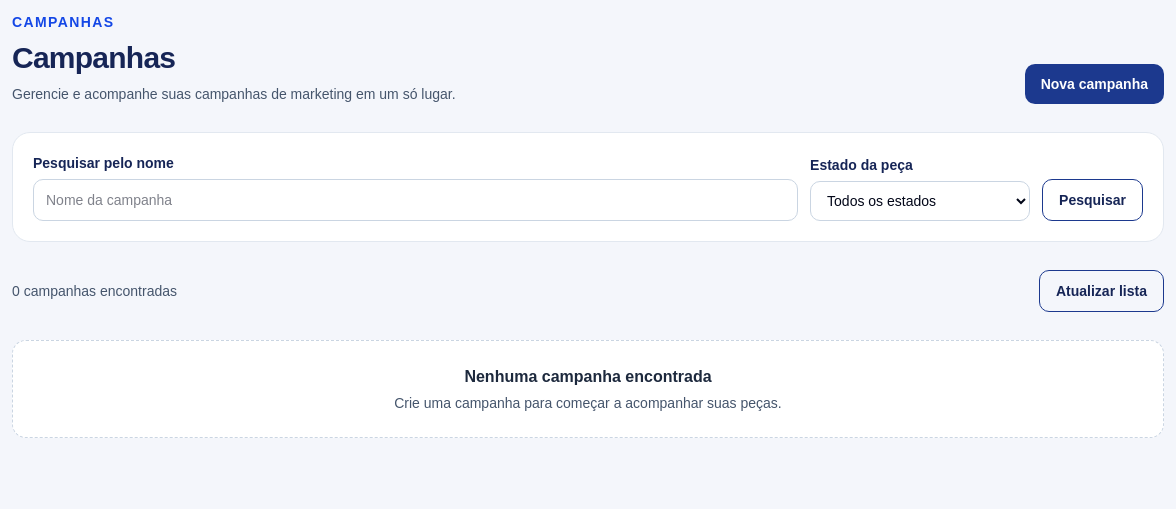
Scenario: listagem de campanhas › distingue lista vazia de pesquisa sem resultados e limpa filtros
The image size is (1176, 509).
Expected: the text "Nenhuma campanha encontrada" is shown, [464,368,712,385]
Type "inexistente" into the search field labelled "Pesquisar pelo nome".
click(416, 200); type("inexistente")  # box [33,179,798,221]
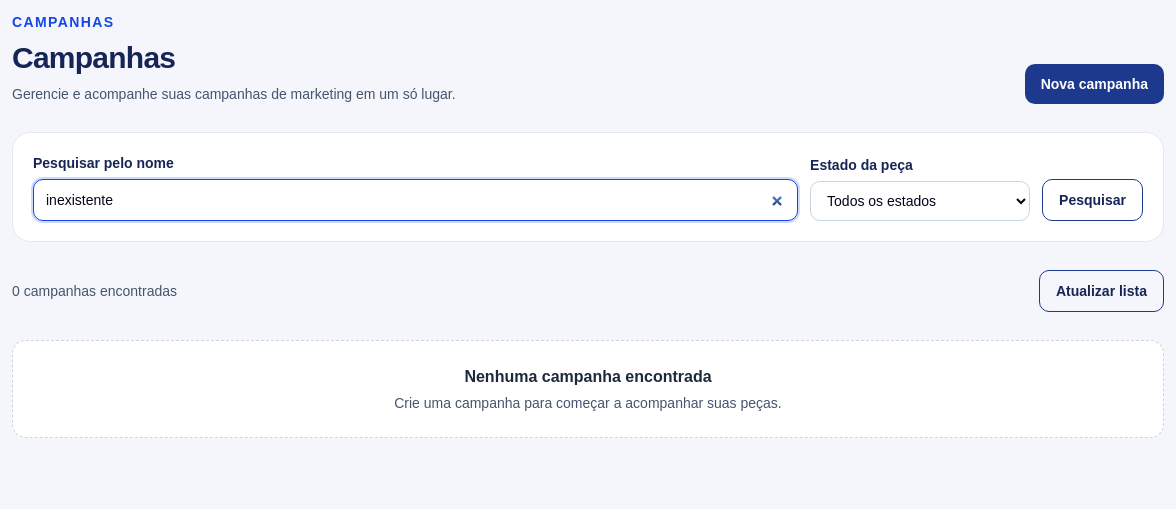
Click the button "Pesquisar".
click(1093, 200)  # box [1042,179,1143,221]
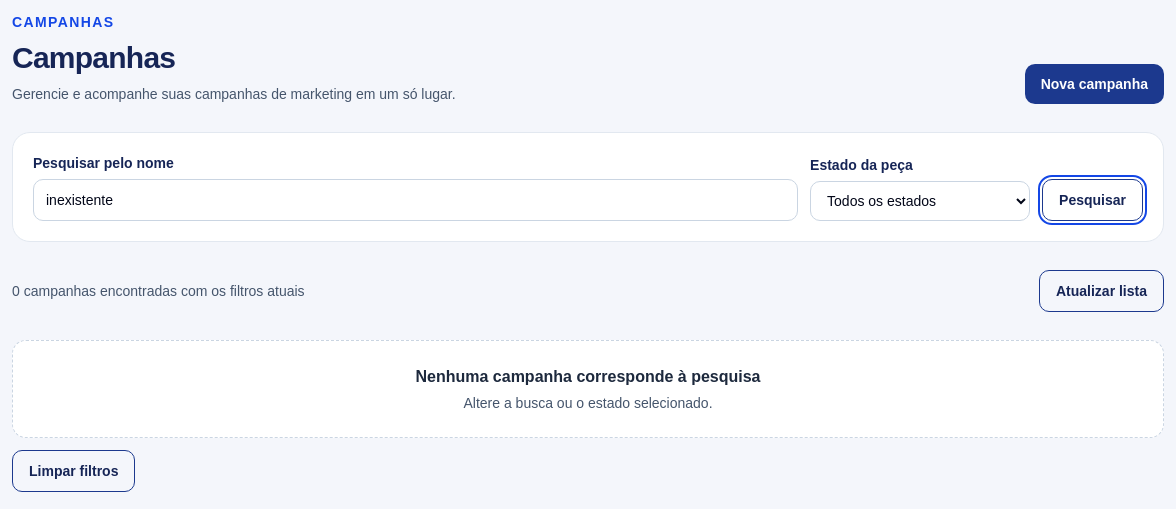
Expected: the text "Nenhuma campanha corresponde à pesquisa" is shown, [416,368,760,385]
Click the button "Limpar filtros".
click(74, 471)  # box [12,450,136,492]
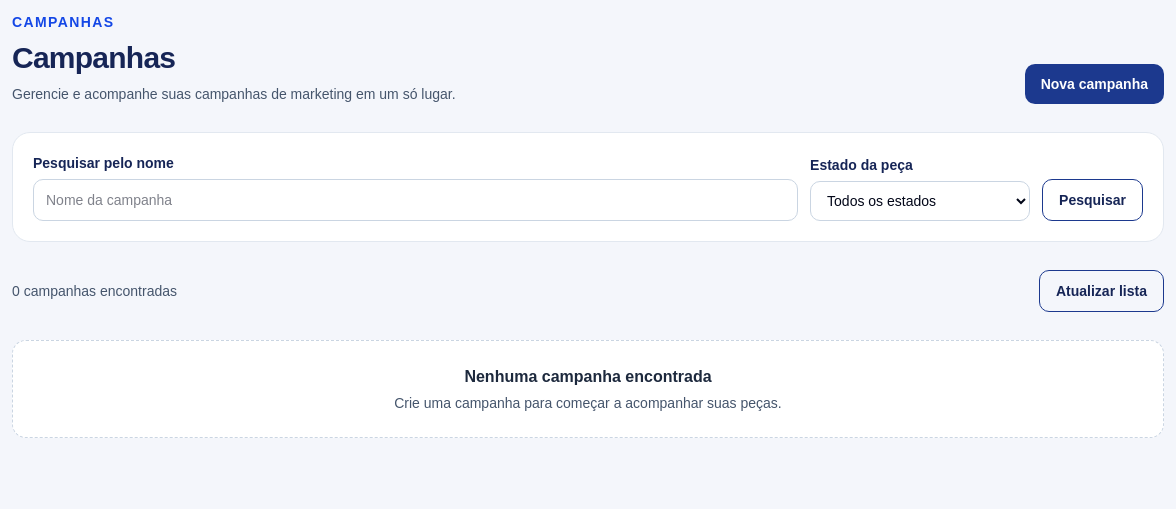
Expected: the text "Nenhuma campanha encontrada" is shown, [464,368,712,385]
